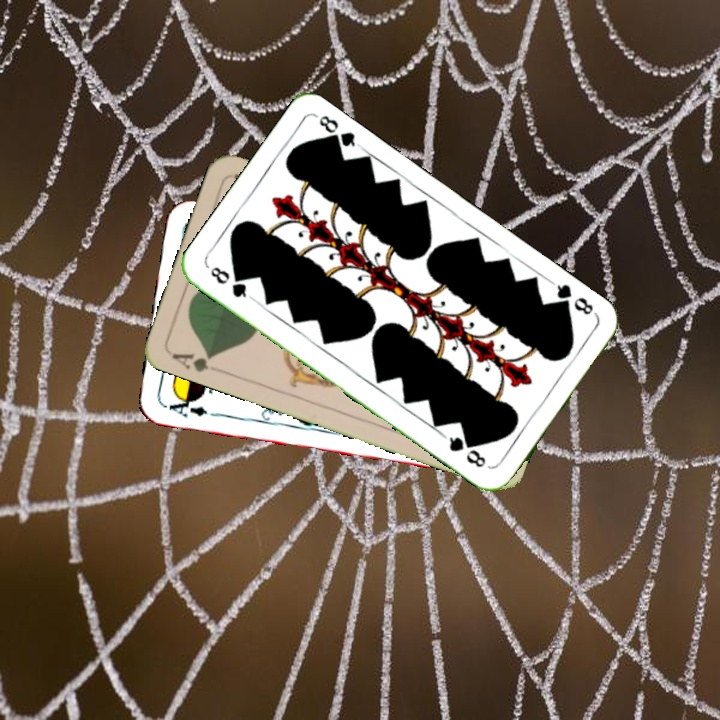EA: (162, 392, 211, 420)
G8: (549, 278, 600, 319), (206, 262, 255, 302)
GA: (167, 349, 217, 375)
